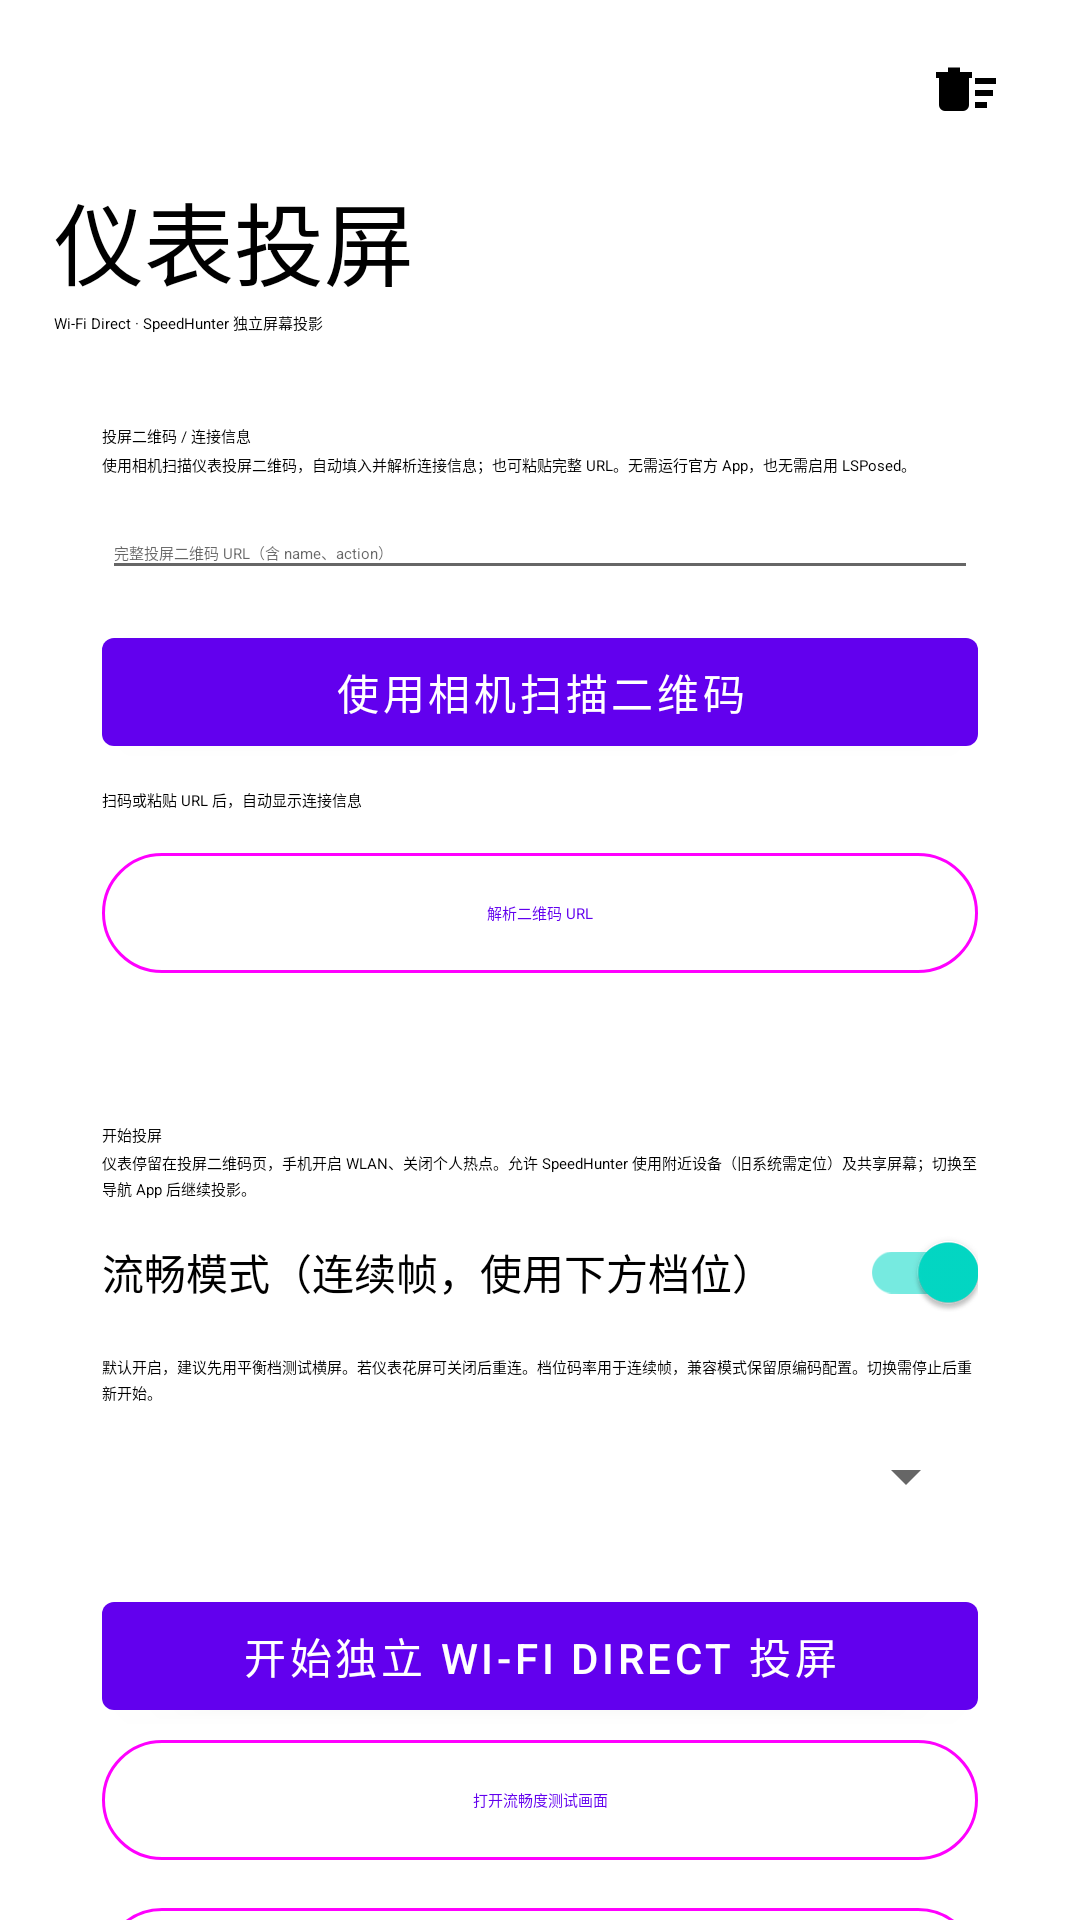

Named icons in this screenshot (1080*1920) and their centers, [x,y]:
清空日志: [966,89]
